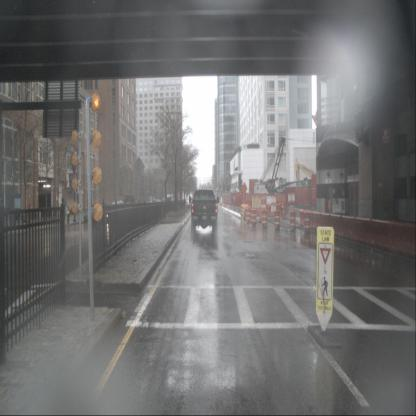barrier: (392, 220, 415, 259), (372, 220, 396, 253), (355, 217, 375, 246), (341, 214, 359, 242), (329, 212, 345, 240), (312, 210, 324, 232), (321, 213, 332, 234), (299, 209, 308, 227), (306, 210, 314, 230), (233, 206, 243, 219), (295, 208, 301, 224), (290, 208, 296, 223), (287, 207, 293, 221), (278, 203, 284, 217), (274, 203, 280, 216), (266, 205, 271, 217), (229, 205, 235, 215), (255, 207, 261, 216), (262, 207, 267, 215), (221, 202, 226, 210), (225, 204, 229, 212)
cone: (289, 210, 296, 230), (261, 209, 268, 228), (249, 208, 256, 227), (304, 212, 310, 234), (274, 210, 280, 230), (246, 208, 251, 224), (245, 207, 250, 222), (258, 205, 262, 222), (242, 204, 245, 223), (240, 205, 243, 222), (271, 204, 275, 216), (282, 204, 285, 219)
